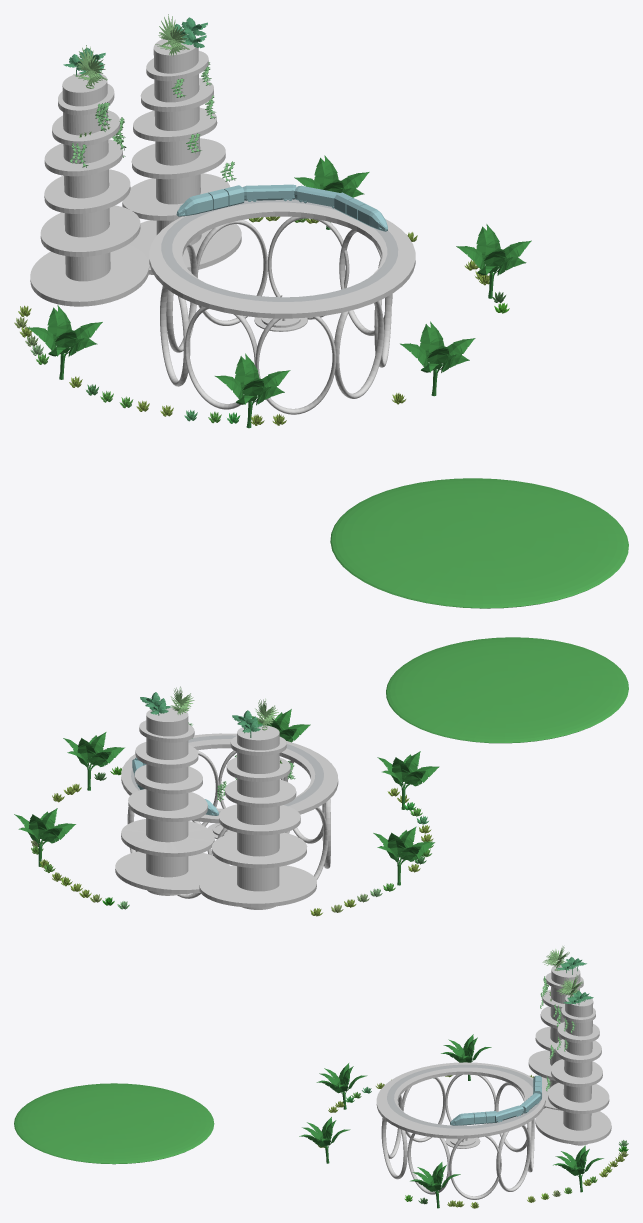
The model's file is ExquisiteJofo8.glb.
The picture shows the model from 3 angles, top to bottom: view 1: azimuth 30°, elevation 25°; view 2: azimuth 150°, elevation 25°; view 3: azimuth 270°, elevation 25°; orthographic projection. The views are drawn at different scales.
Parts seen in each view (by area): view 1: Mesh_Mesh_head_geo.001_lambert2SG.001; view 2: Mesh_Mesh_head_geo.001_lambert2SG.001; view 3: Mesh_Mesh_head_geo.001_lambert2SG.001.
Boxes of the visible parts, x1,y1,x2,y2 form: Mesh_Mesh_head_geo.001_lambert2SG.001: [14, 14, 628, 608]; Mesh_Mesh_head_geo.001_lambert2SG.001: [14, 637, 628, 916]; Mesh_Mesh_head_geo.001_lambert2SG.001: [14, 946, 628, 1208].
Size of the model in its own units: 0.102 by 0.06 by 0.1781.
